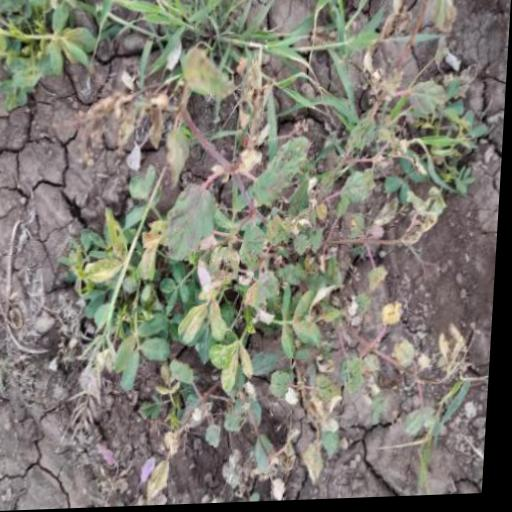weed: (56, 8, 469, 446)
